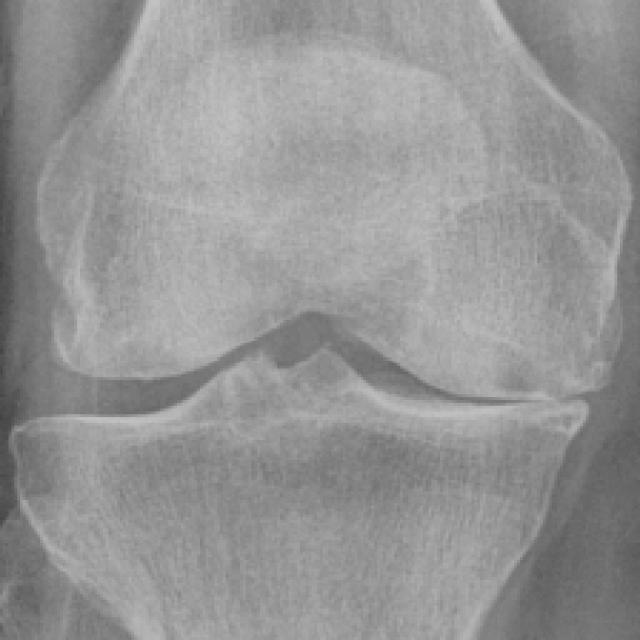femur: (37, 0, 634, 399)
tibia: (23, 354, 589, 640)
